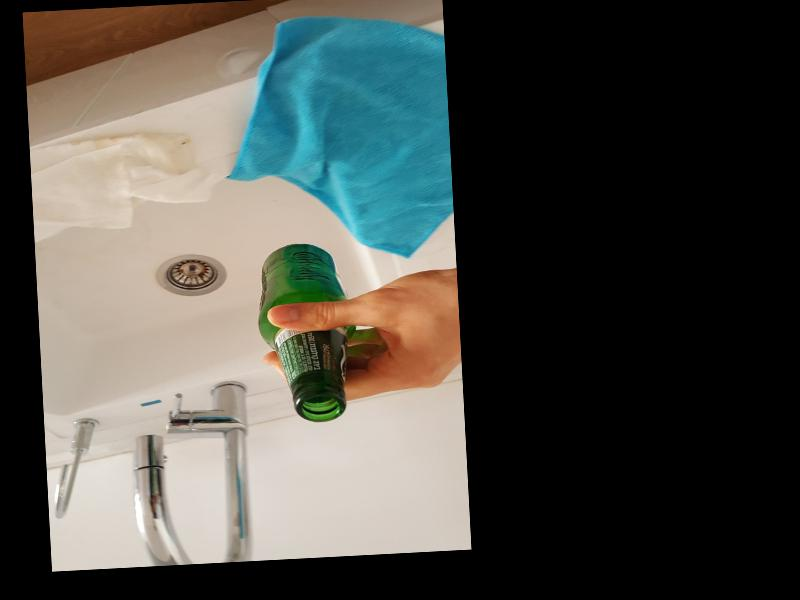Beer: (253, 240, 358, 424)
